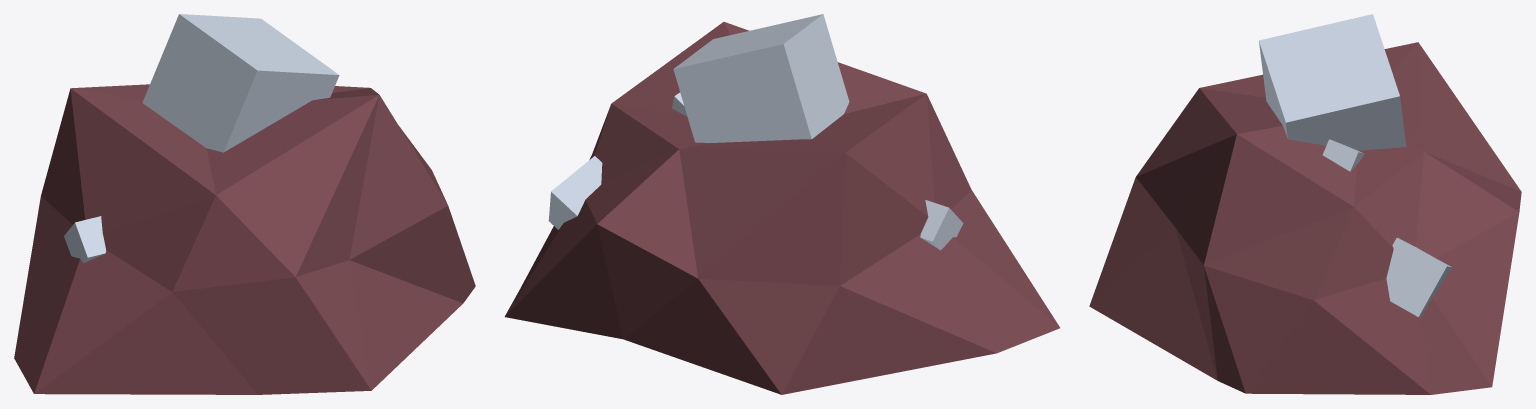
Rendered from cubeore_5.fbx.
The picture shows the model from 3 angles, left to right: view 1: azimuth 30°, elevation 25°; view 2: azimuth 150°, elevation 25°; view 3: azimuth 270°, elevation 25°; orthographic projection. The views are drawn at different scales.
Parts seen in each view (by area): view 1: Cube; view 2: Cube; view 3: Cube.
Part boxes in pixels (x1=…): Cube: x1=14, y1=14, x2=475, y2=394; Cube: x1=504, y1=14, x2=1059, y2=394; Cube: x1=1089, y1=14, x2=1521, y2=394.
Size of the model in its own units: 225 by 137 by 196.
